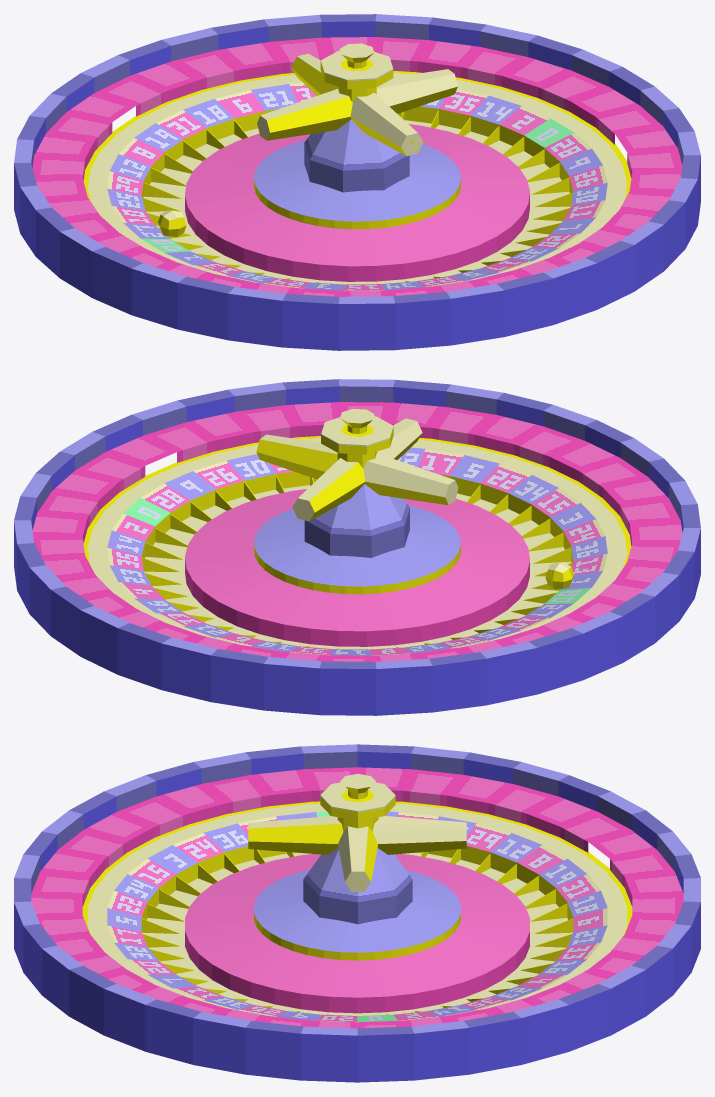
Rendered from rg_roulette.obj.
3 views of the same model, one above another, from view 1: azimuth 30°, elevation 25°; view 2: azimuth 150°, elevation 25°; view 3: azimuth 270°, elevation 25° (orthographic).
Visible parts, largest first — view 1: rim, wheel, center, ball; view 2: rim, wheel, center, ball; view 3: rim, wheel, center.
Boxes of the visible parts, box(x1,y1,x2,y2) form: rim: box(14, 14, 700, 350); wheel: box(83, 71, 631, 290); center: box(257, 43, 457, 192); ball: box(158, 210, 186, 236); rim: box(14, 379, 700, 715); wheel: box(83, 436, 631, 655); center: box(256, 409, 458, 557); ball: box(545, 562, 573, 589); rim: box(14, 744, 700, 1082); wheel: box(82, 801, 632, 1022); center: box(248, 774, 466, 924).
Size of the model in its own units: 2.5 by 0.64 by 2.49.
Materials: 2 (2 with a texture image).
